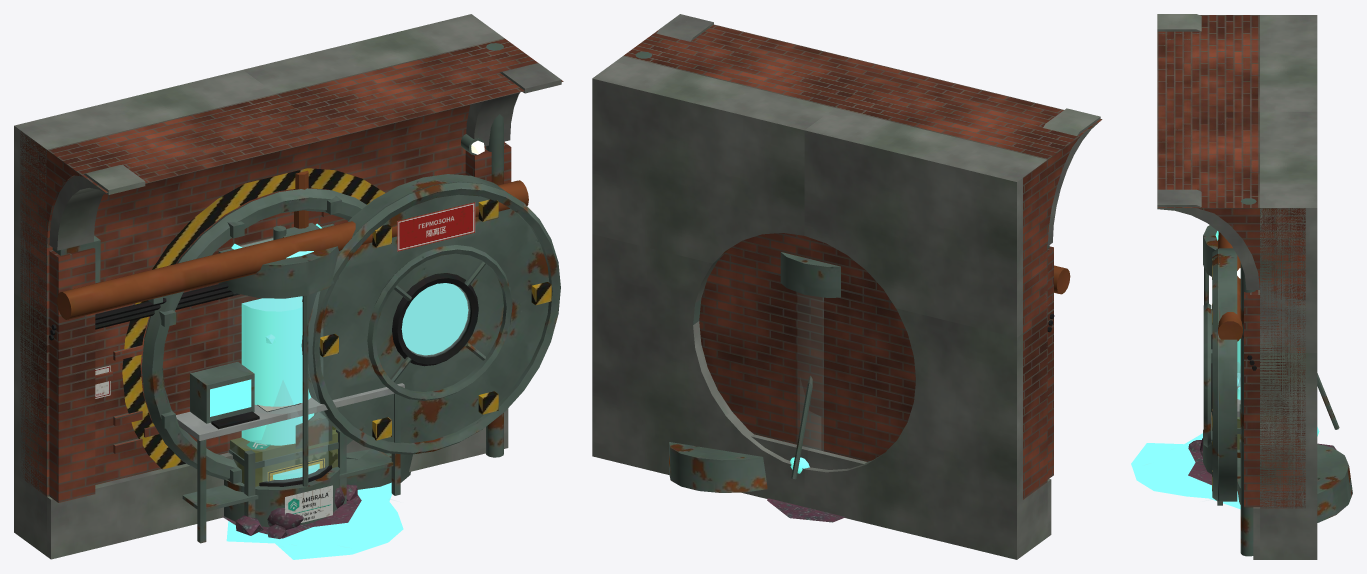
The model's file is lab_kit.glb.
The picture shows the model from 3 angles, left to right: view 1: azimuth 30°, elevation 25°; view 2: azimuth 150°, elevation 25°; view 3: azimuth 270°, elevation 25°; orthographic projection. The views are drawn at different scales.
Parts seen in each view (by area): view 1: vault_4m_mesh, hermodoor_mesh, bulkhead_mesh, vat_mesh, vat_broken_mesh, lab_table_mesh, crate_bio_mesh, growth_cluster_mesh; view 2: bulkhead_mesh, vault_4m_mesh, vat_mesh, vat_broken_mesh, growth_cluster_mesh; view 3: vault_4m_mesh, bulkhead_mesh, hermodoor_mesh, vat_broken_mesh, vat_mesh, growth_cluster_mesh, lab_table_mesh.
Part boxes in pixels (box(x1,y1,x2,y2)): vault_4m_mesh: box(17, 38, 563, 559); hermodoor_mesh: box(273, 174, 560, 454); bulkhead_mesh: box(14, 14, 504, 537); vat_mesh: box(218, 170, 339, 526); vat_broken_mesh: box(226, 381, 412, 559); lab_table_mesh: box(176, 362, 404, 543); crate_bio_mesh: box(229, 426, 346, 517); growth_cluster_mesh: box(222, 486, 361, 538); bulkhead_mesh: box(592, 51, 1049, 559); vault_4m_mesh: box(623, 14, 1102, 553); vat_mesh: box(780, 252, 840, 450); vat_broken_mesh: box(669, 375, 820, 492); growth_cluster_mesh: box(767, 457, 845, 522); vault_4m_mesh: box(1157, 14, 1311, 559); bulkhead_mesh: box(1237, 15, 1317, 559); hermodoor_mesh: box(1203, 248, 1237, 501); vat_broken_mesh: box(1131, 371, 1352, 522); vat_mesh: box(1203, 225, 1240, 474); growth_cluster_mesh: box(1188, 427, 1336, 490); lab_table_mesh: box(1217, 362, 1240, 505).
Size of the model in its own units: 4.28 by 3.69 by 1.94.
7 materials, 4 textured.
